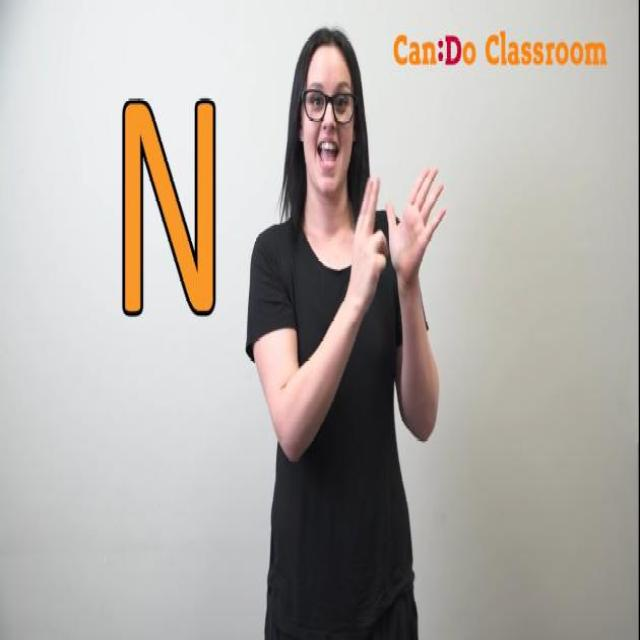N: (346, 149, 452, 330)
